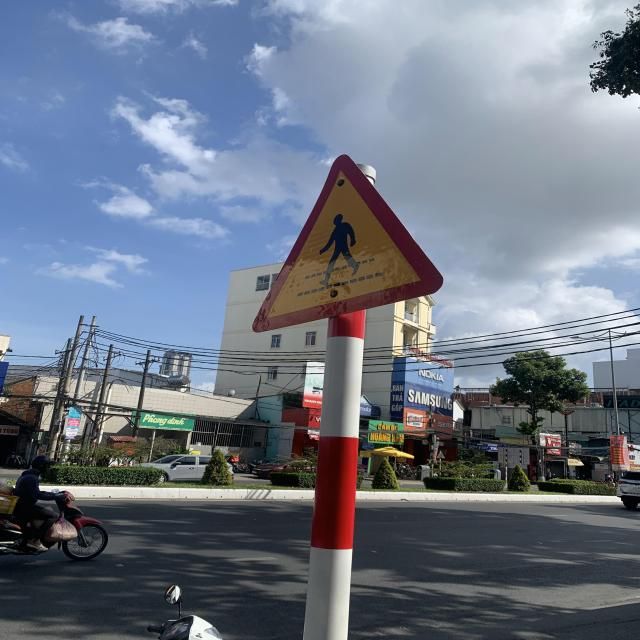Duong_Nguoi_Di_Bo_Sang_Ngang: (249, 151, 445, 335)
